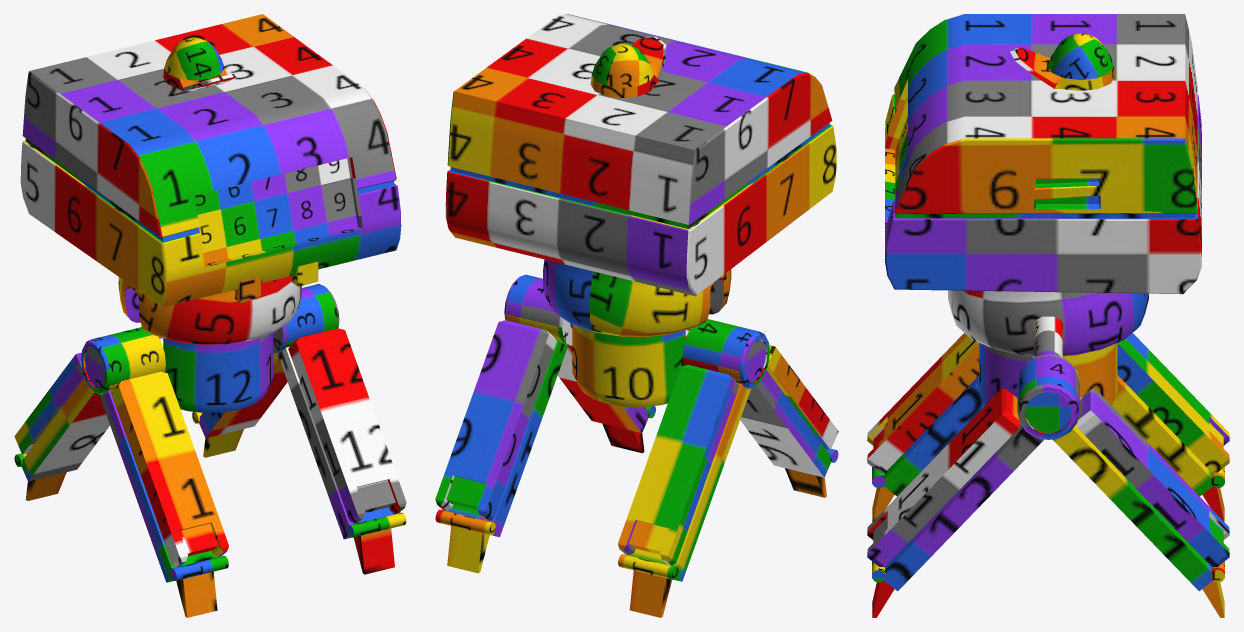
Rendered from Robot_Roger 1.fbx.
3 views of the same model, side by side, from view 1: azimuth 30°, elevation 25°; view 2: azimuth 150°, elevation 25°; view 3: azimuth 270°, elevation 25° (orthographic). The views are drawn at different scales.
Parts seen in each view (by area): view 1: polySurface578, Body1, polySurface552, polySurface553, Screen1, LegJoint, polySurface556, polySurface554, polySurface548, polySurface557, polySurface561, polySurface568 (+8 smaller); view 2: polySurface578, Body1, polySurface558, polySurface557, LegJoint, polySurface554, polySurface561, polySurface556, polySurface552, polySurface548, polySurface568, polySurface577 (+6 smaller); view 3: polySurface578, Body1, polySurface553, polySurface558, polySurface552, polySurface557, LegJoint, polySurface548, polySurface561, polySurface554, polySurface556, polySurface568 (+4 smaller).
Part boxes in pixels (box(x1,y1,x2,y2)): polySurface578: box(20, 14, 401, 307); Body1: box(118, 276, 301, 412); polySurface552: box(110, 371, 228, 566); polySurface553: box(288, 328, 406, 523); Screen1: box(194, 158, 357, 264); LegJoint: box(81, 284, 339, 395); polySurface556: box(21, 377, 109, 481); polySurface554: box(99, 390, 219, 582); polySurface548: box(277, 347, 397, 539); polySurface557: box(14, 352, 84, 454); polySurface561: box(199, 352, 287, 437); polySurface568: box(164, 37, 224, 80); polySurface578: box(445, 14, 836, 296); Body1: box(543, 259, 731, 407); polySurface558: box(435, 320, 556, 520); polySurface557: box(618, 364, 739, 565); LegJoint: box(504, 274, 769, 388); polySurface554: box(740, 370, 830, 477); polySurface561: box(444, 339, 568, 537); polySurface556: box(627, 383, 751, 581); polySurface552: box(766, 345, 838, 449); polySurface548: box(557, 345, 648, 432); polySurface568: box(591, 43, 653, 87); polySurface577: box(590, 36, 666, 97); polySurface578: box(885, 14, 1201, 294); Body1: box(948, 290, 1148, 405); polySurface553: box(867, 388, 1019, 566); polySurface558: box(1077, 388, 1229, 566); polySurface552: box(867, 333, 979, 472); polySurface557: box(1117, 333, 1229, 472); LegJoint: box(1017, 316, 1079, 439); polySurface548: box(884, 423, 1044, 591); polySurface561: box(1052, 423, 1212, 591); polySurface554: box(884, 345, 1034, 496); polySurface556: box(1062, 345, 1212, 496); polySurface568: box(1048, 33, 1113, 79).
Size of the model in its own units: 54.54 by 106 by 66.38.
2 materials, 2 textured.
